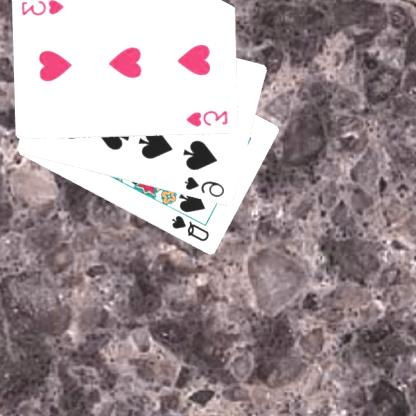3H: (186, 107, 231, 128), (22, 0, 68, 17)
9S: (183, 174, 228, 199)
QS: (170, 212, 213, 244)
